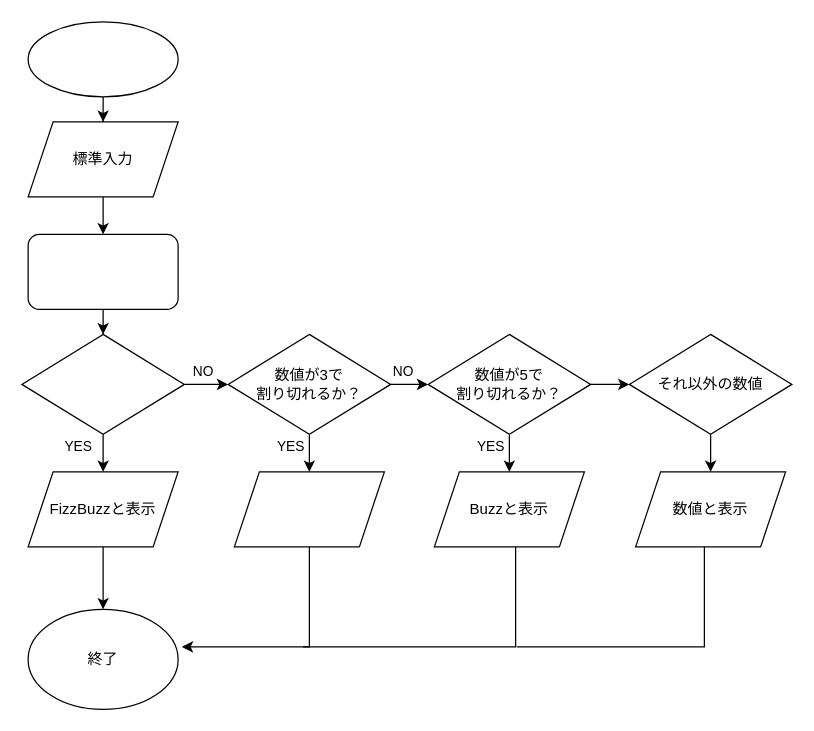
Image size: 814x731. Some labels were removed from this diagram. The shapes that lost their labels are listed below. From the top down, each one's centre as x and y in pixels, then its label:
At (102,59): "開始".
At (102,271): "標準入力の値を 数値に変換".
At (102,383): "数値が3と5で 割り切れるか？".
At (308,509): "Fizzと表示".
